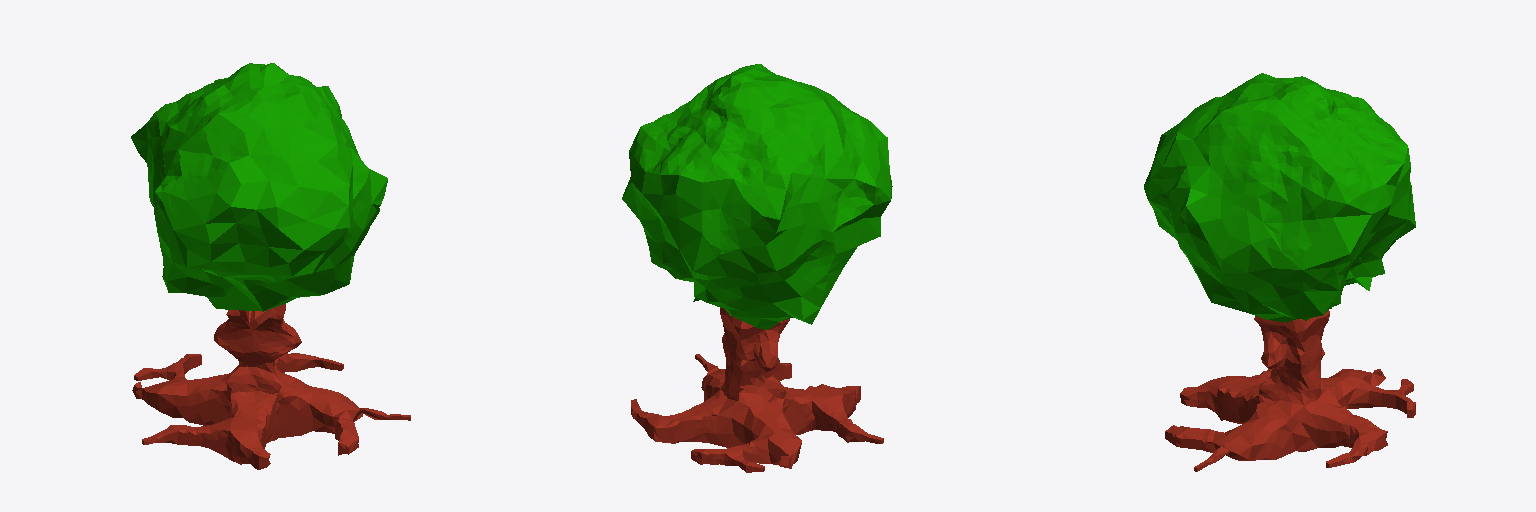
The model's file is tree.obj.
The picture shows the model from 3 angles: view 1: azimuth 30°, elevation 25°; view 2: azimuth 150°, elevation 25°; view 3: azimuth 270°, elevation 25°; orthographic projection.
Parts seen in each view (by area): view 1: Feuillage_Cube, Tronc_Cube.001; view 2: Feuillage_Cube, Tronc_Cube.001; view 3: Feuillage_Cube, Tronc_Cube.001.
Part boxes in pixels (x1,y1,x2,y2): Feuillage_Cube: (131,63,387,311); Tronc_Cube.001: (132,304,410,469); Feuillage_Cube: (622,64,892,329); Tronc_Cube.001: (631,308,883,472); Feuillage_Cube: (1144,73,1415,322); Tronc_Cube.001: (1165,310,1415,471).
Bounding box in the file's own units: 19.76 × 29.89 × 20.49.